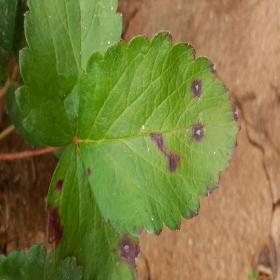Leaf Spot: (78, 31, 241, 237), (46, 141, 142, 279)
